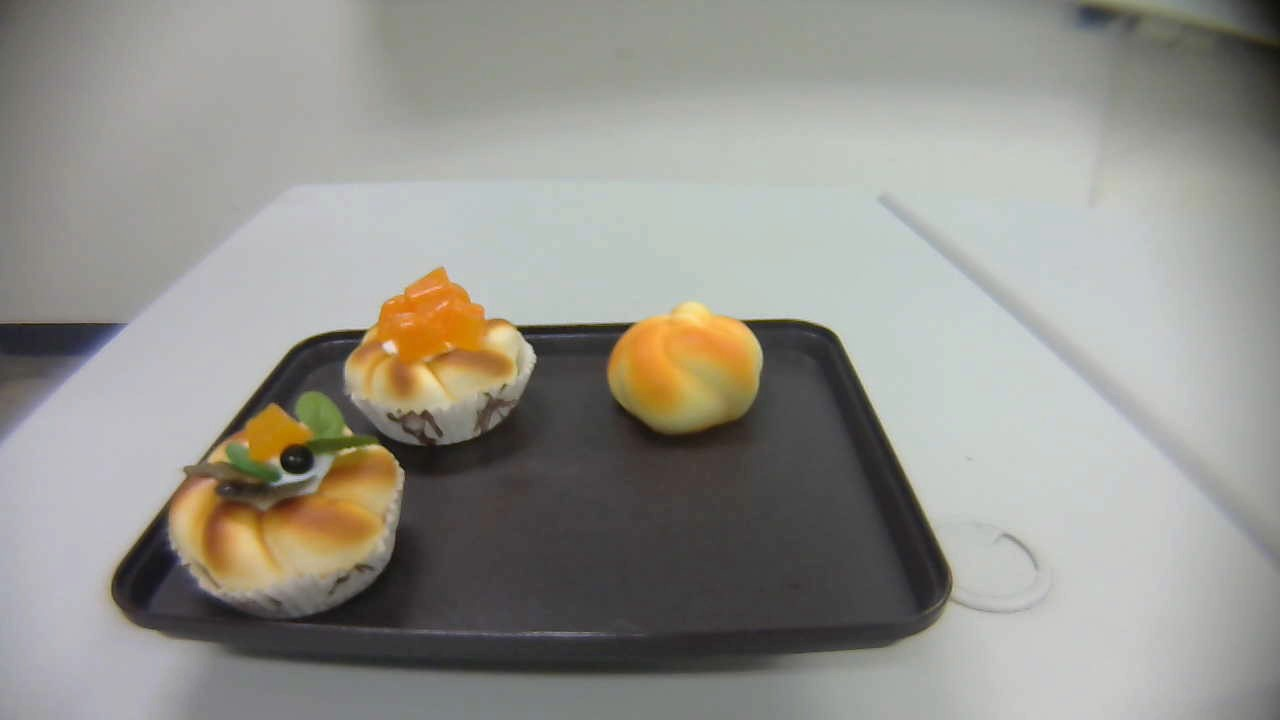fruit tart: (167, 392, 404, 619)
mango tart: (344, 267, 537, 445)
twist bread: (605, 300, 764, 436)
